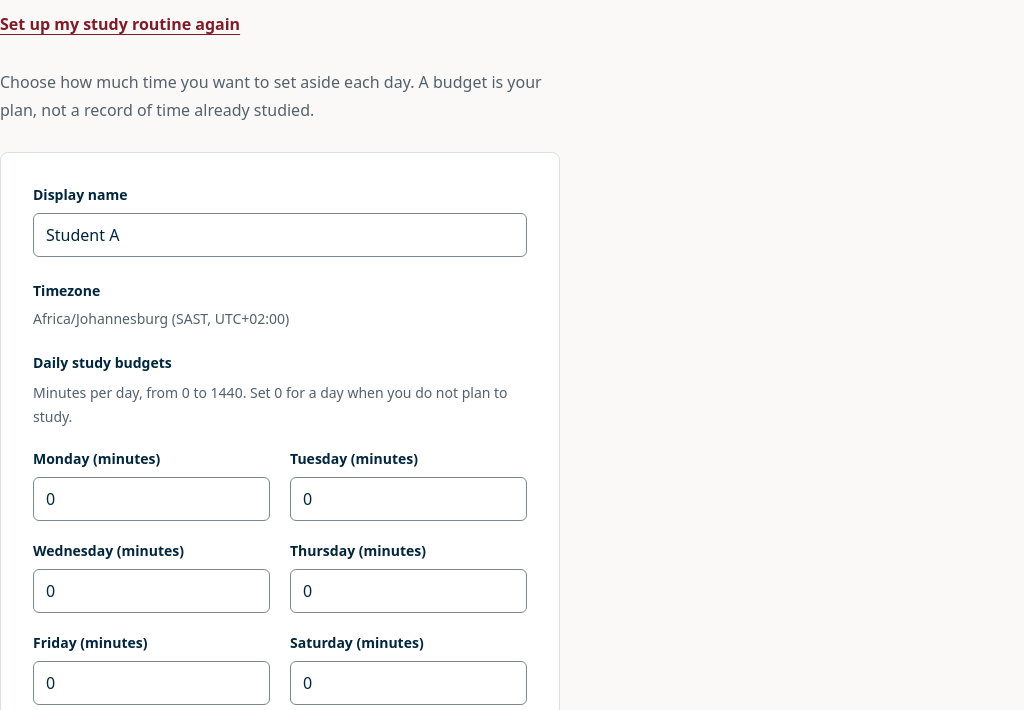
settings editing › saves every day including zero and 1440, using the loaded revision
Replace the text in the field labelled "Display name" with " Updated ": (280, 235) [33,213,527,257]
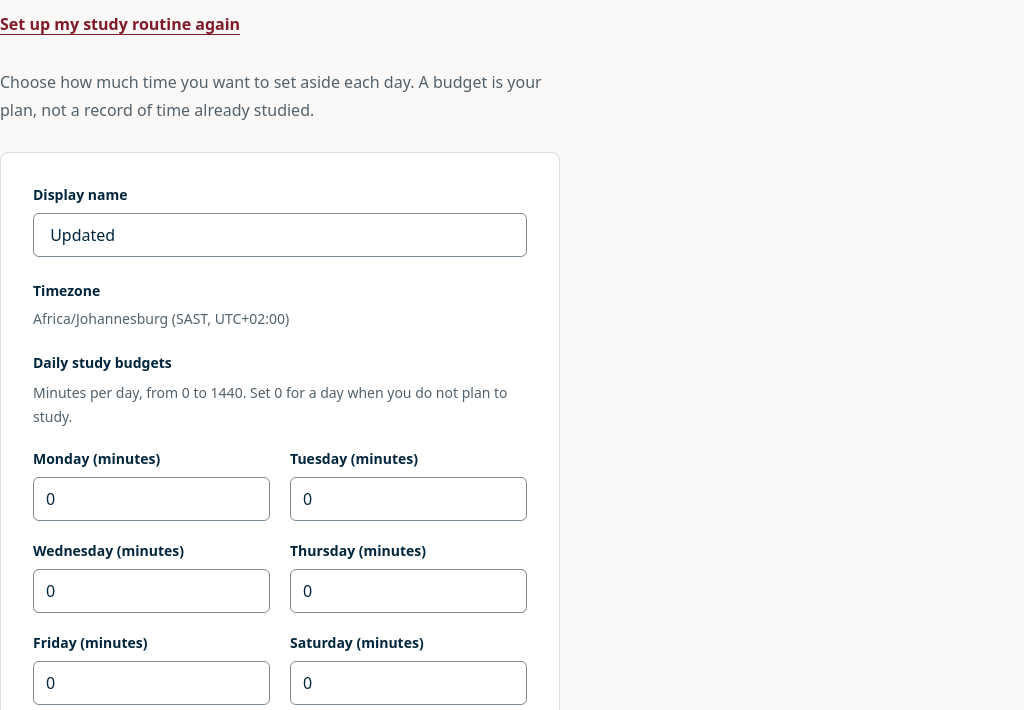
Replace the text in the number field labelled "Monday (minutes)" with "1440": (152, 499) [33,477,270,521]
(page scrolled)
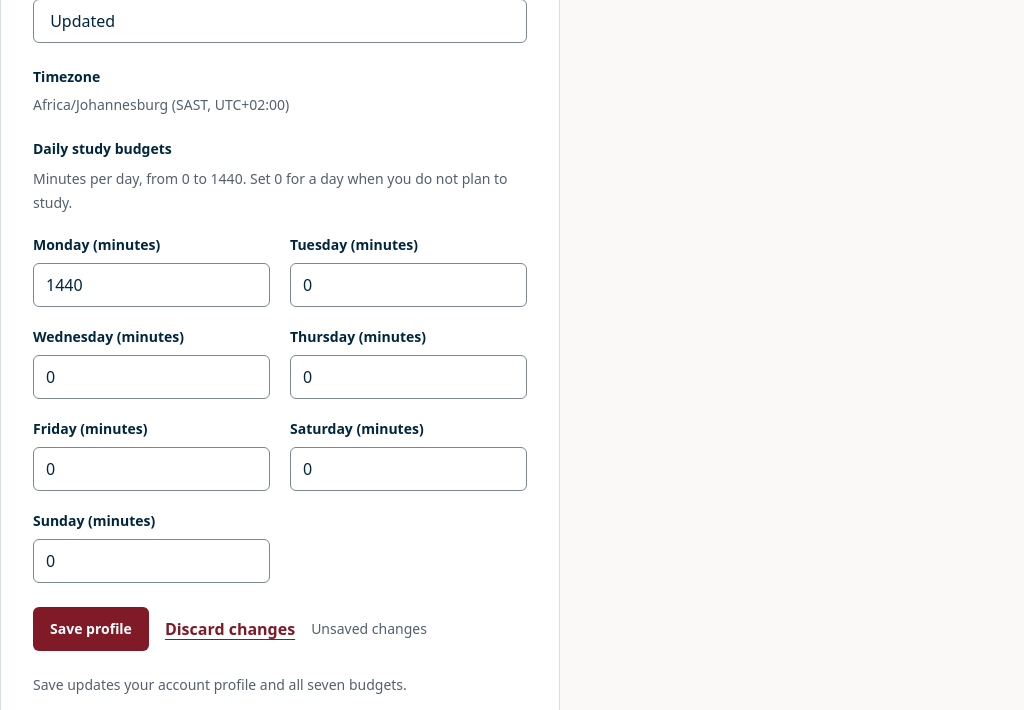
Click the button "Save profile": (91, 629) [33,607,149,651]
(page scrolled)
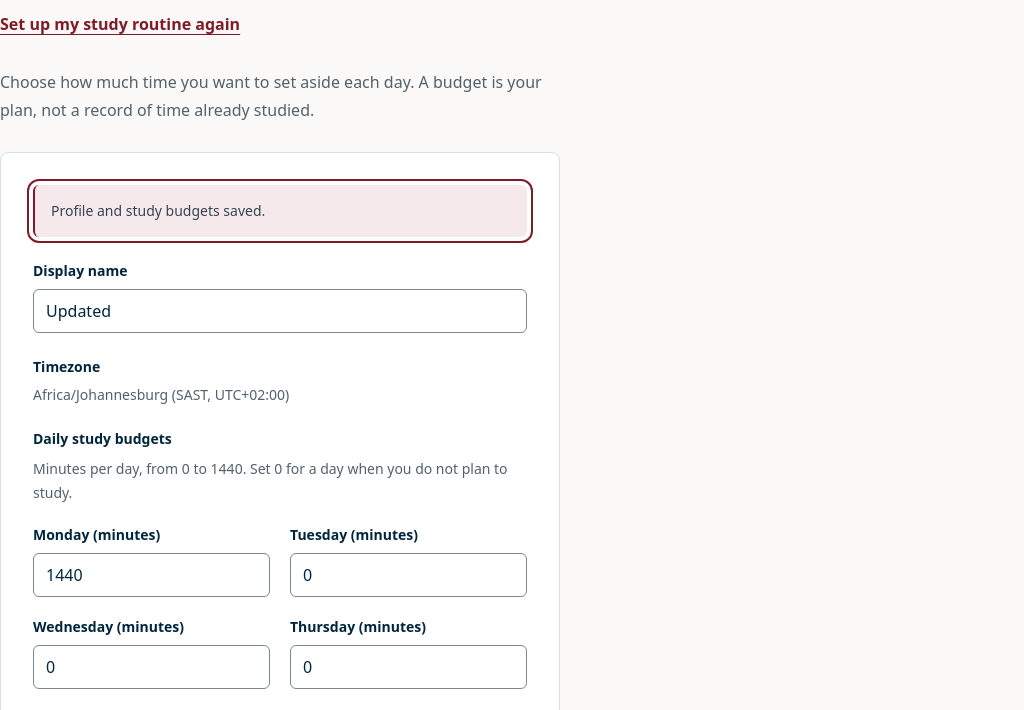
Result: the message shows "saved" at [51,201,265,220]
